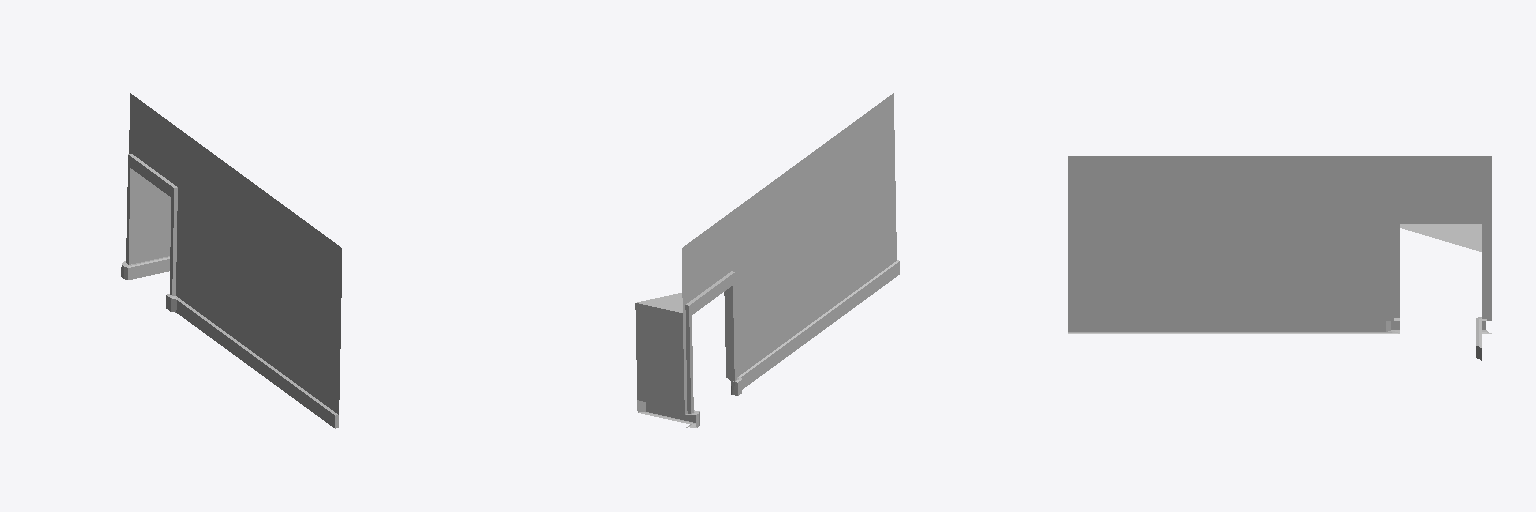
File: ArtGallery_RightWall.obj
3 renders of one model, left to right at view 1: azimuth 30°, elevation 25°; view 2: azimuth 150°, elevation 25°; view 3: azimuth 270°, elevation 25°, orthographic.
Parts seen in each view (by area): view 1: MuseumGalleryMesh2; view 2: MuseumGalleryMesh2; view 3: MuseumGalleryMesh2.
Boxes of the visible parts, x1=… form: MuseumGalleryMesh2: x1=121, y1=93, x2=341, y2=428; MuseumGalleryMesh2: x1=635, y1=93, x2=899, y2=427; MuseumGalleryMesh2: x1=1068, y1=156, x2=1491, y2=360.
Bounding box in the file's own units: 30.91 × 83.68 × 178.